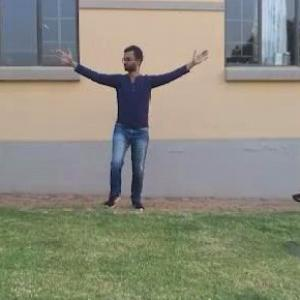takeoff: (36, 32, 200, 217)
